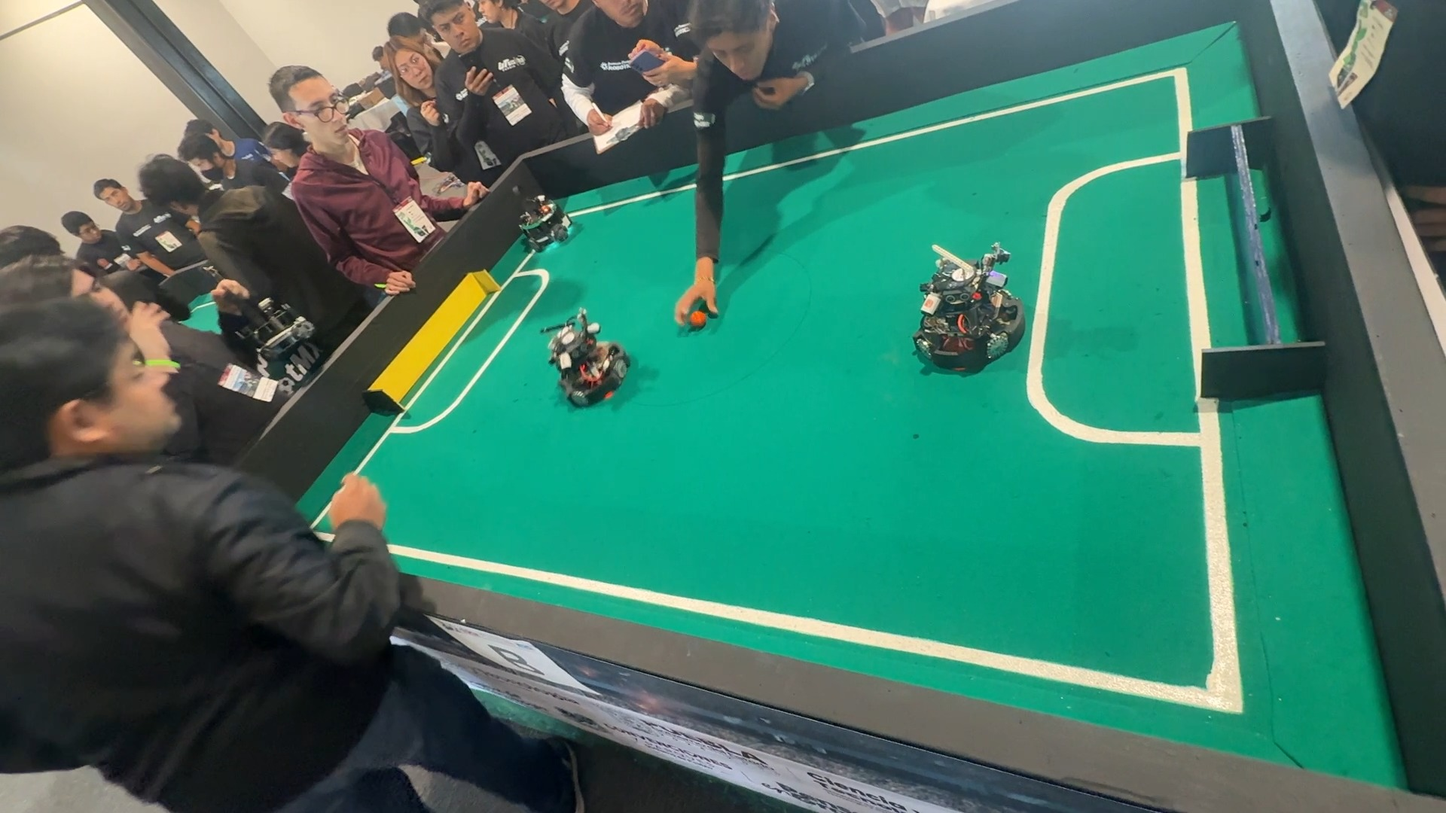Robot: (905, 231, 1030, 382), (529, 305, 629, 417), (519, 185, 581, 258)
pelota: (690, 311, 709, 332)
